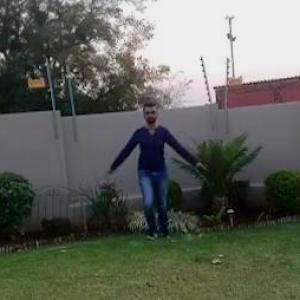land: (92, 99, 212, 255)
